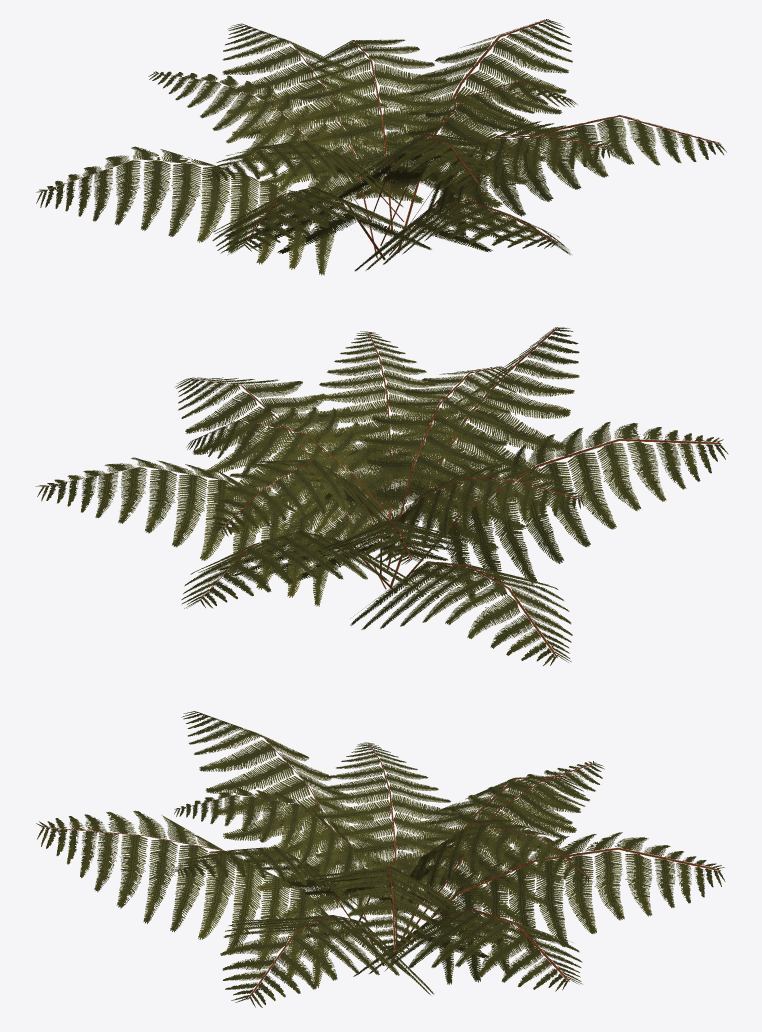
Rendered from FernGroupedGeo_01.FBX.
3 renders of one model, top to bottom at view 1: azimuth 30°, elevation 25°; view 2: azimuth 150°, elevation 25°; view 3: azimuth 270°, elevation 25°, orthographic.
Visible parts, largest first — view 1: Plane021; view 2: Plane021; view 3: Plane021.
Boxes of the visible parts, left/top/right/bottom form: Plane021: left=36, top=19, right=726, bottom=275; Plane021: left=35, top=327, right=728, bottom=665; Plane021: left=36, top=711, right=725, bottom=1007.
Size of the model in its own units: 247 by 73.98 by 275.
